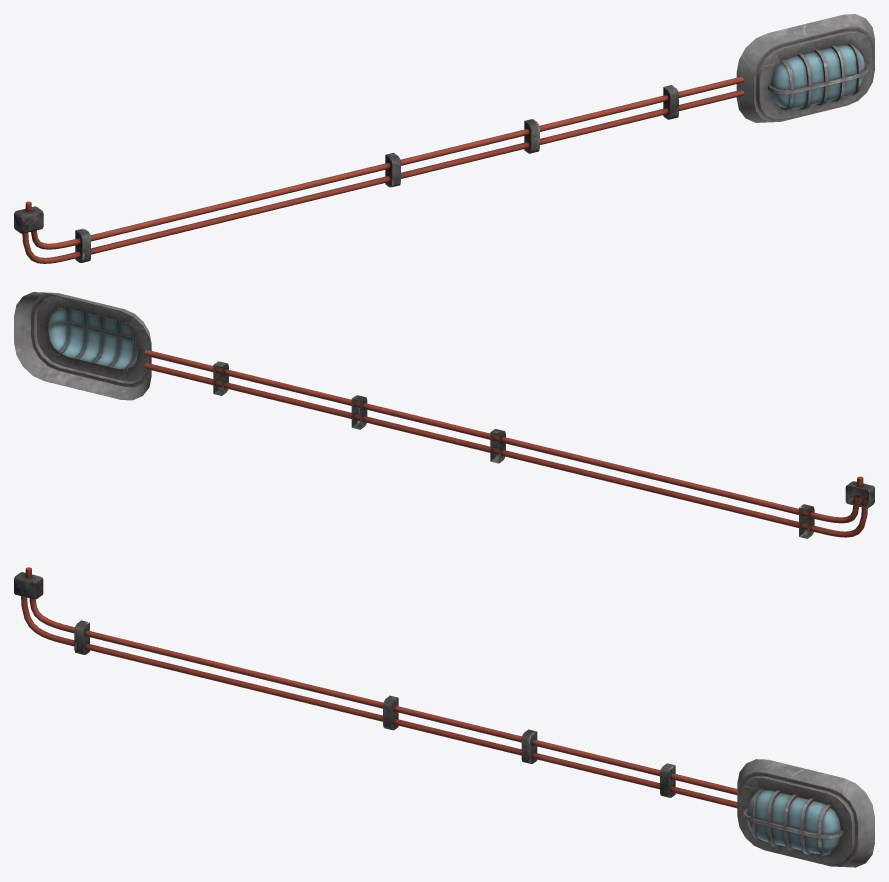
Rendered from Cables01_10.glb.
The picture shows the model from 3 angles, top to bottom: view 1: azimuth 30°, elevation 25°; view 2: azimuth 150°, elevation 25°; view 3: azimuth 330°, elevation 25°; orthographic projection.
Parts seen in each view (by area): view 1: Plane; view 2: Plane; view 3: Plane.
Part boxes in pixels (x1,y1,x2,y2): Plane: (14, 14, 874, 263); Plane: (14, 292, 874, 538); Plane: (14, 567, 874, 867).
Bounding box in the file's own units: 1.55 × 0.174 × 0.0711.
Materials: 1 (1 with a texture image).
